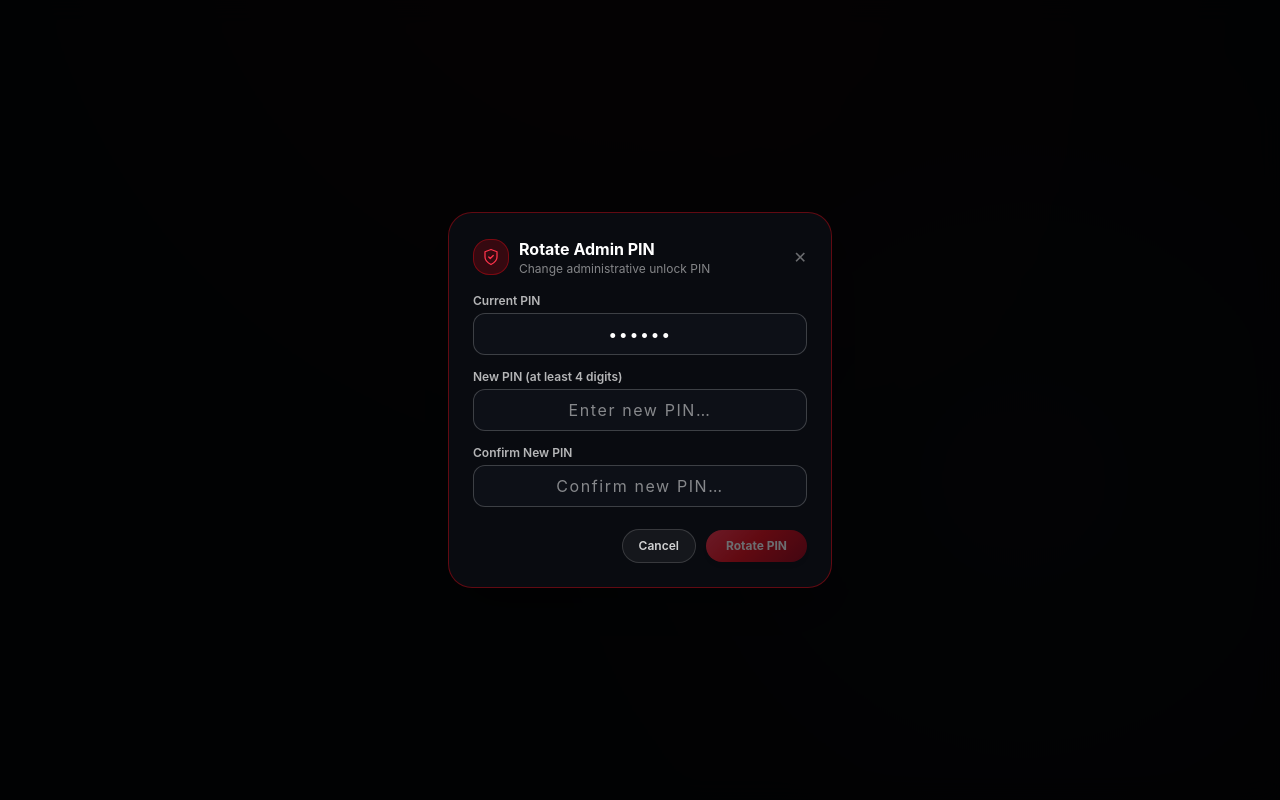
Scenario: ChangeAdminPinModal › validates mismatched new PIN and confirmation
Type "123456" into the password field labelled "New PIN (at least 4 digits)".
click(640, 410); type("123456")  # box [473, 389, 807, 431]
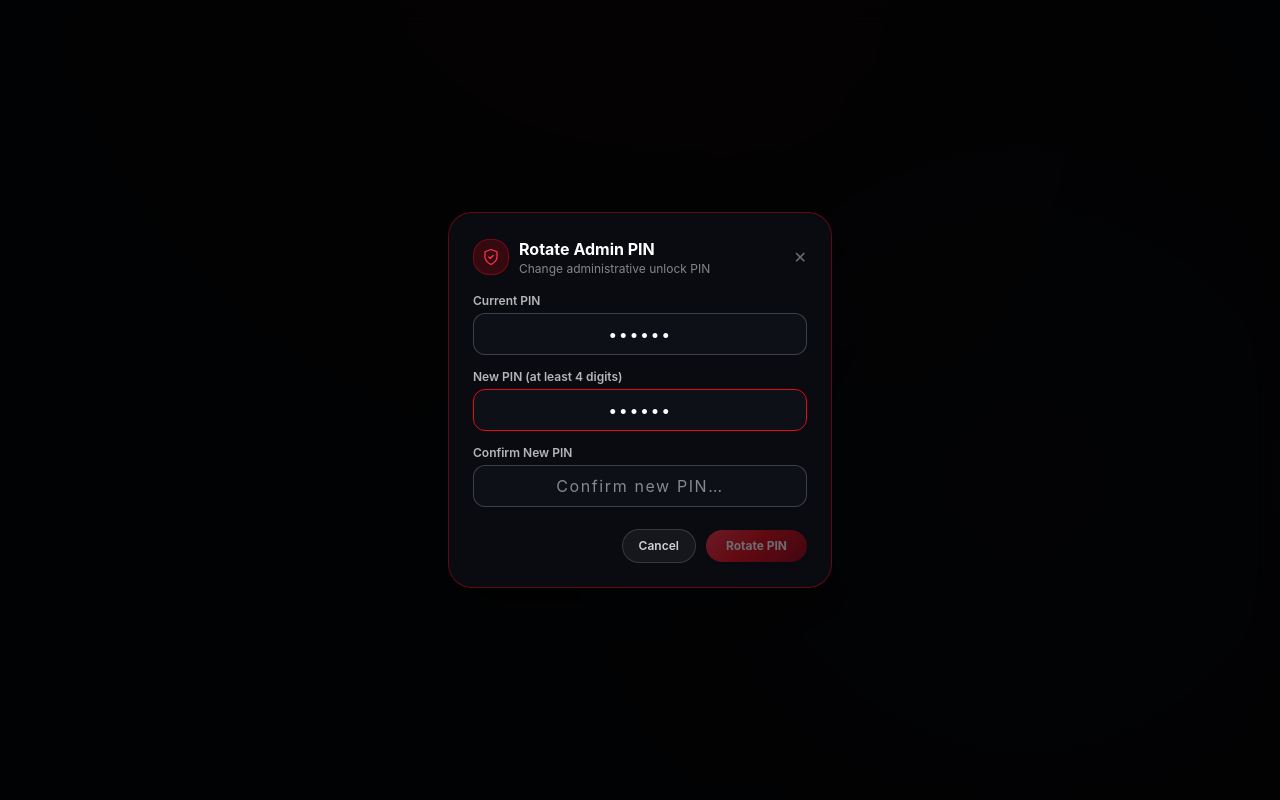
Type "654321" into the password field labelled "Confirm New PIN".
click(640, 486); type("654321")  # box [473, 465, 807, 507]
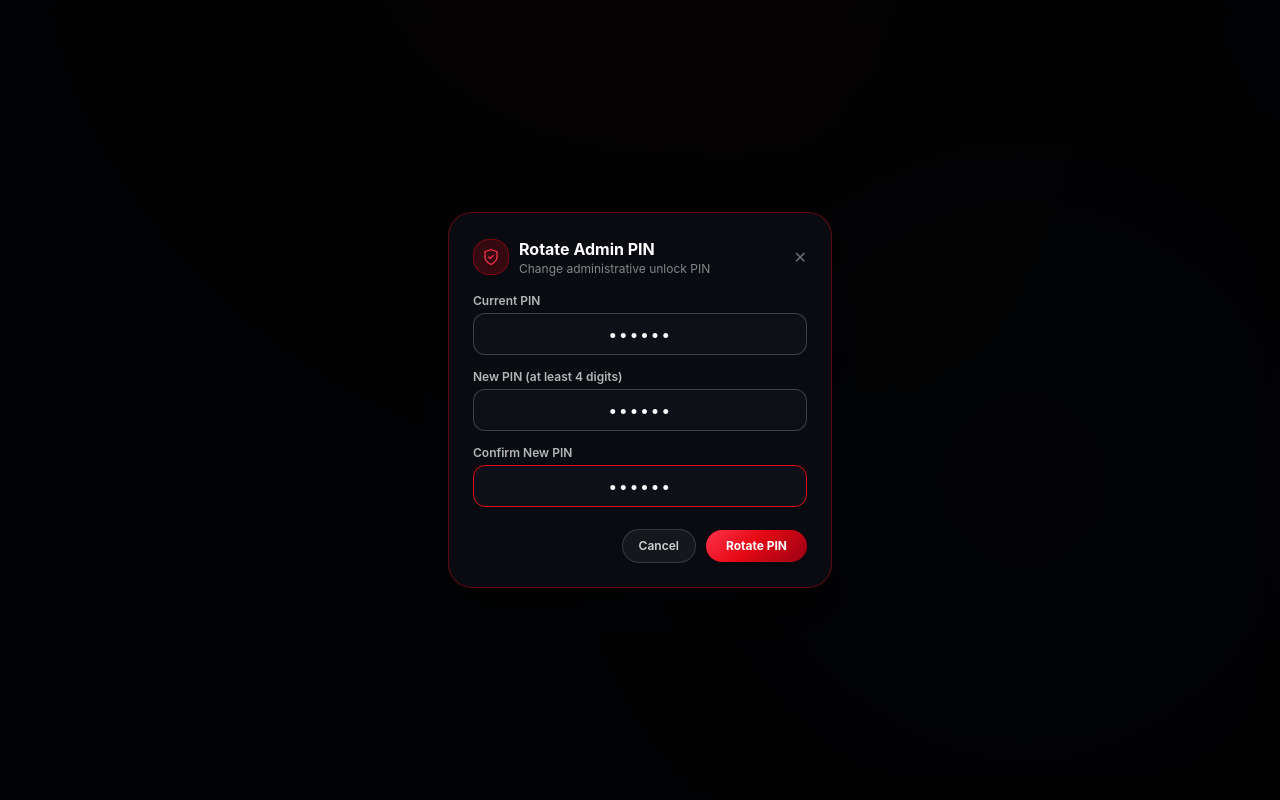
Click the button "Rotate PIN".
click(756, 546)  # box [706, 530, 807, 562]
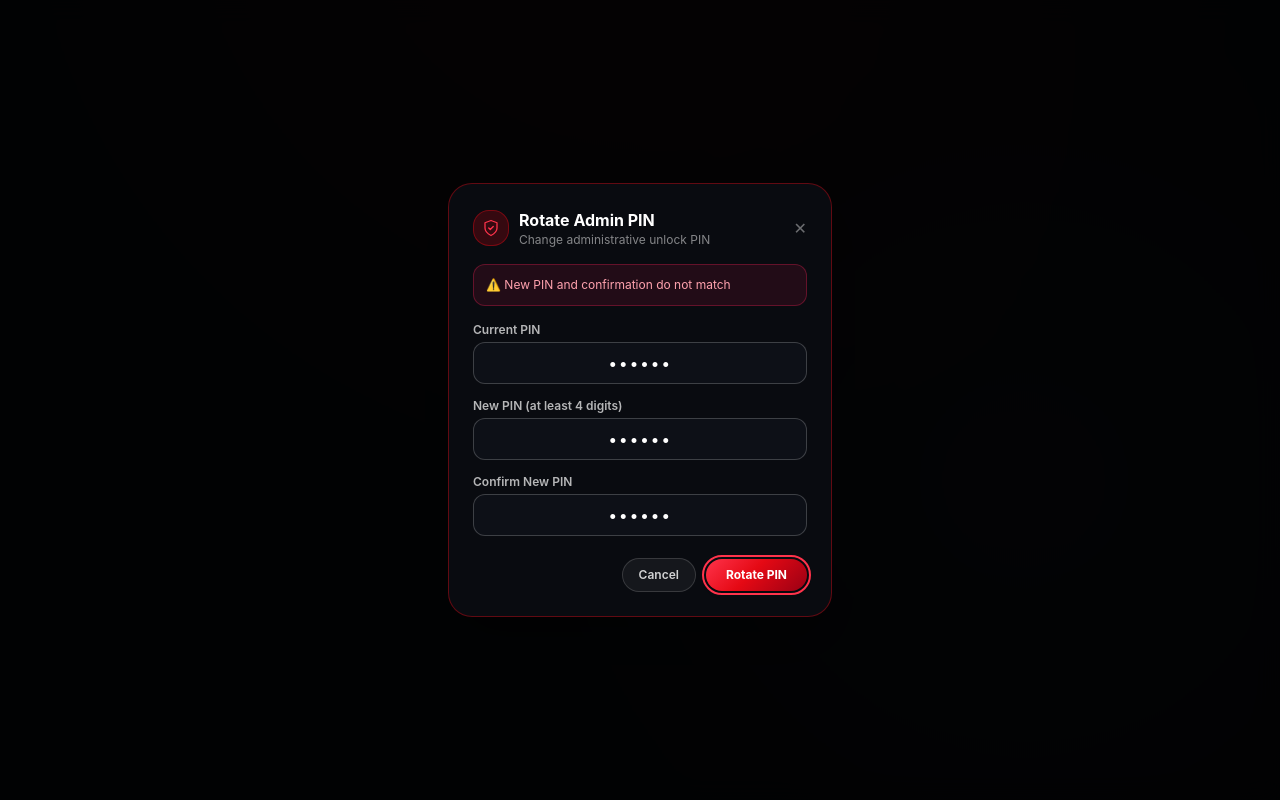
Result: the text "⚠️ New PIN and confirmation do not match" is shown at [473, 264, 807, 306]
